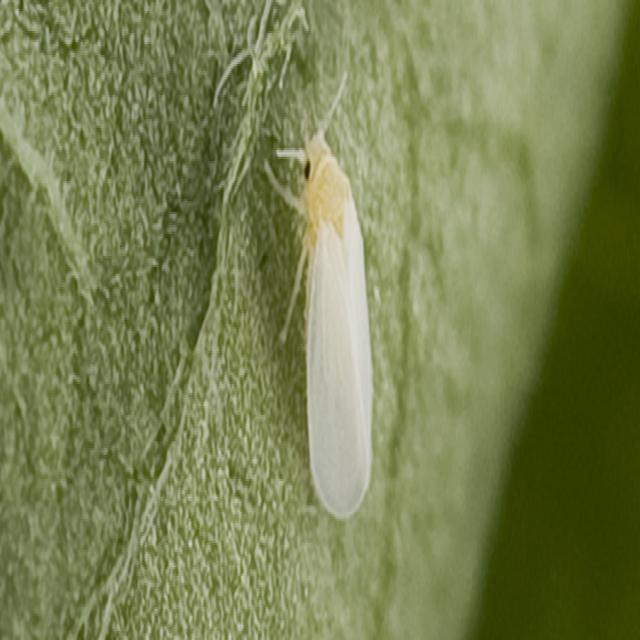Whiteflies: (233, 62, 436, 572)
